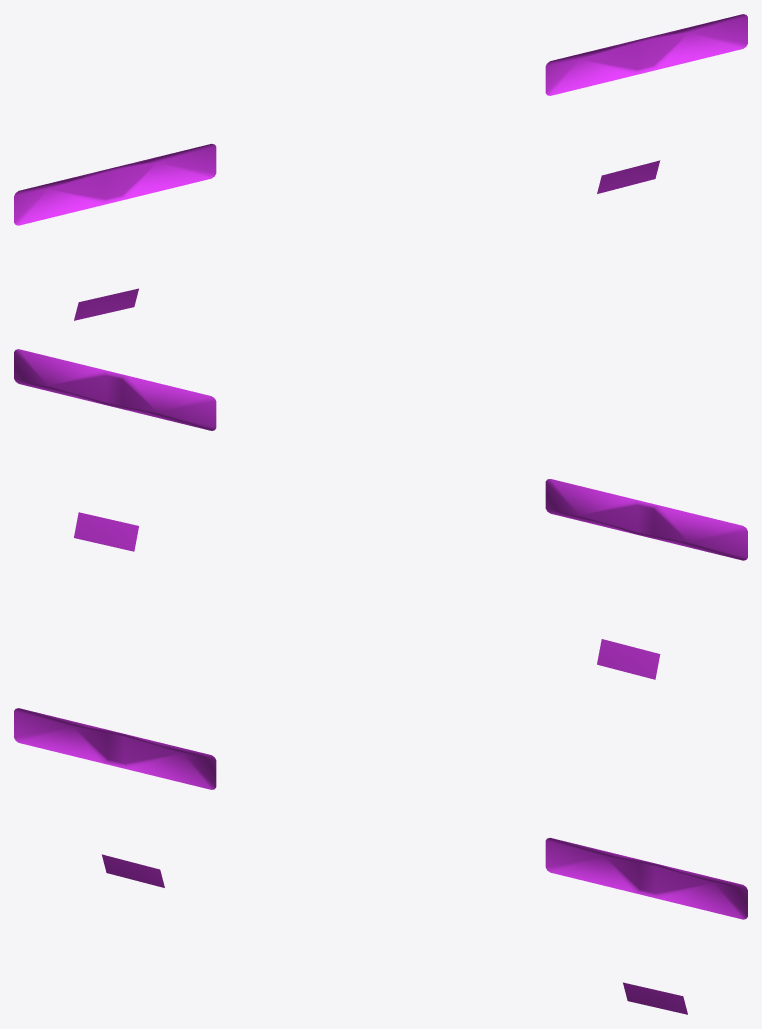
Rendered from Camaro_BB01_Detail.fbx.
The picture shows the model from 3 angles, top to bottom: view 1: azimuth 30°, elevation 25°; view 2: azimuth 150°, elevation 25°; view 3: azimuth 330°, elevation 25°; orthographic projection.
Parts seen in each view (by area): view 1: Camaro_BB01_Detail; view 2: Camaro_BB01_Detail; view 3: Camaro_BB01_Detail.
Boxes of the visible parts, x1,y1,x2,y2 form: Camaro_BB01_Detail: (14,14,747,320); Camaro_BB01_Detail: (14,349,747,679); Camaro_BB01_Detail: (14,708,747,1014).
Size of the model in its own units: 1.45 by 0.0558 by 0.3004.
